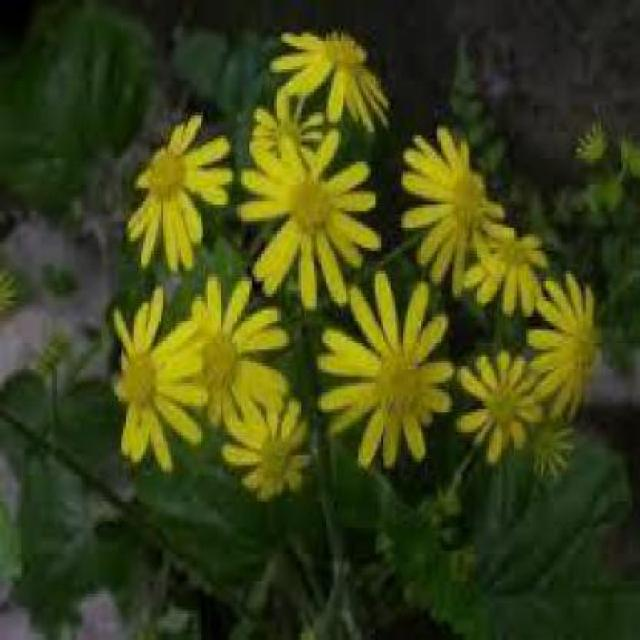flower: (232, 110, 391, 304), (155, 265, 294, 453), (332, 276, 451, 470), (98, 270, 200, 488), (370, 114, 498, 284), (124, 114, 244, 272), (278, 15, 416, 133), (508, 271, 602, 409), (446, 203, 548, 322), (230, 394, 328, 503), (465, 347, 537, 471), (510, 401, 575, 487)
